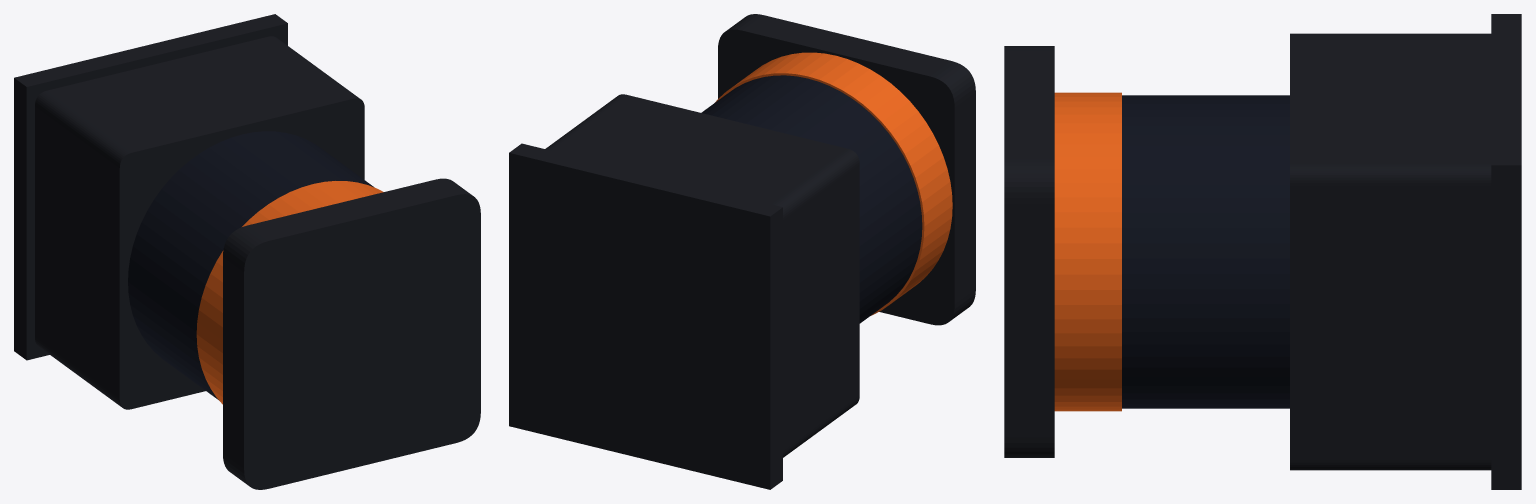
The model's file is roboracer_lidar.glb.
3 views of the same model, side by side, from view 1: azimuth 30°, elevation 25°; view 2: azimuth 150°, elevation 25°; view 3: azimuth 270°, elevation 25° (orthographic). The views are drawn at different scales.
Visible parts, largest first — view 1: lidar_black, lidar_hokuyo, lidar_orange; view 2: lidar_black, lidar_hokuyo, lidar_orange; view 3: lidar_black, lidar_hokuyo, lidar_orange.
Part boxes in pixels (x1,y1,x2,y2): lidar_black: [14, 14, 480, 489]; lidar_hokuyo: [128, 131, 374, 399]; lidar_orange: [196, 181, 383, 404]; lidar_black: [509, 14, 975, 489]; lidar_hokuyo: [701, 75, 922, 323]; lidar_orange: [715, 52, 952, 315]; lidar_black: [1004, 14, 1521, 489]; lidar_hokuyo: [1122, 95, 1289, 408]; lidar_orange: [1054, 92, 1121, 411].
Size of the model in its own units: 0.064 by 0.064 by 0.0924.
